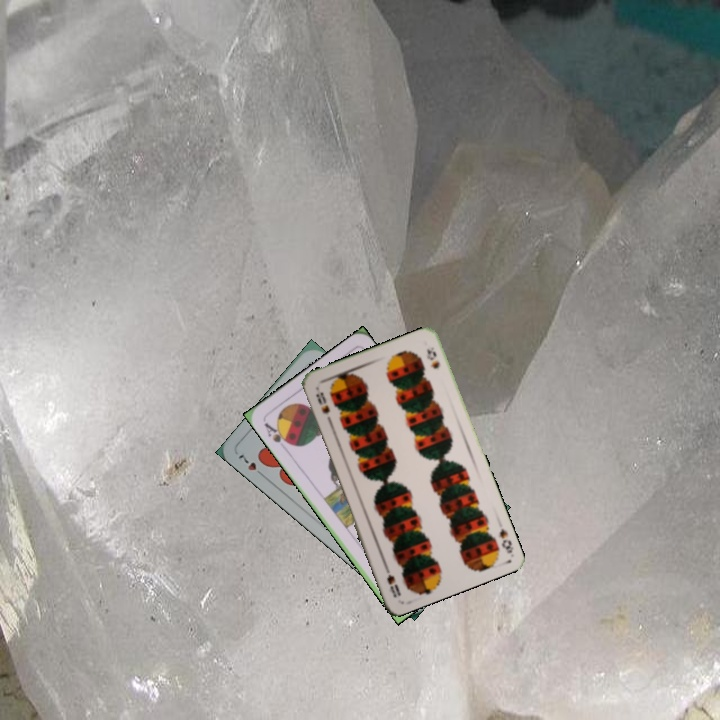H7: (234, 449, 268, 480)
S8: (495, 524, 516, 556), (312, 384, 332, 417)
SA: (260, 418, 294, 448)
